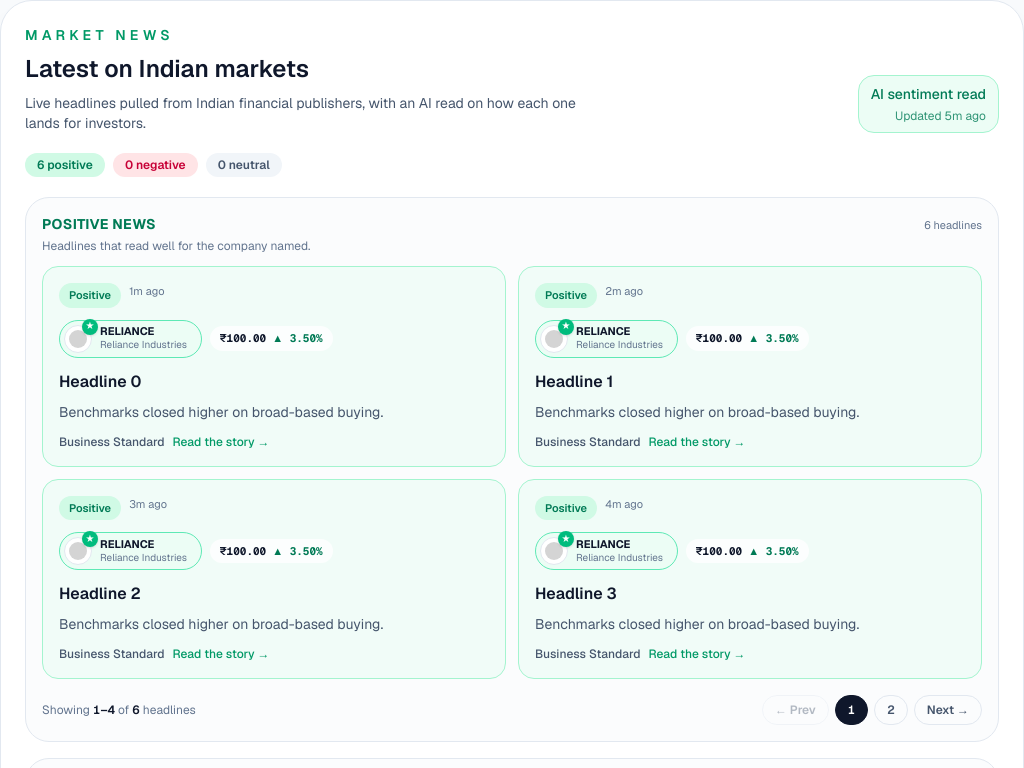
MarketNews as a card grid › pages each half four at a time
This screenshot has width=1024, height=768.
Expected: the heading "Headline 0" is shown, [59,370,141,394]
Expected: the number of list items is 4, [42,266,506,466]; [518,266,982,466]; [42,478,506,679]; [518,478,982,679]
Click the button "Next →" at (948, 710), box [914,695,982,725]
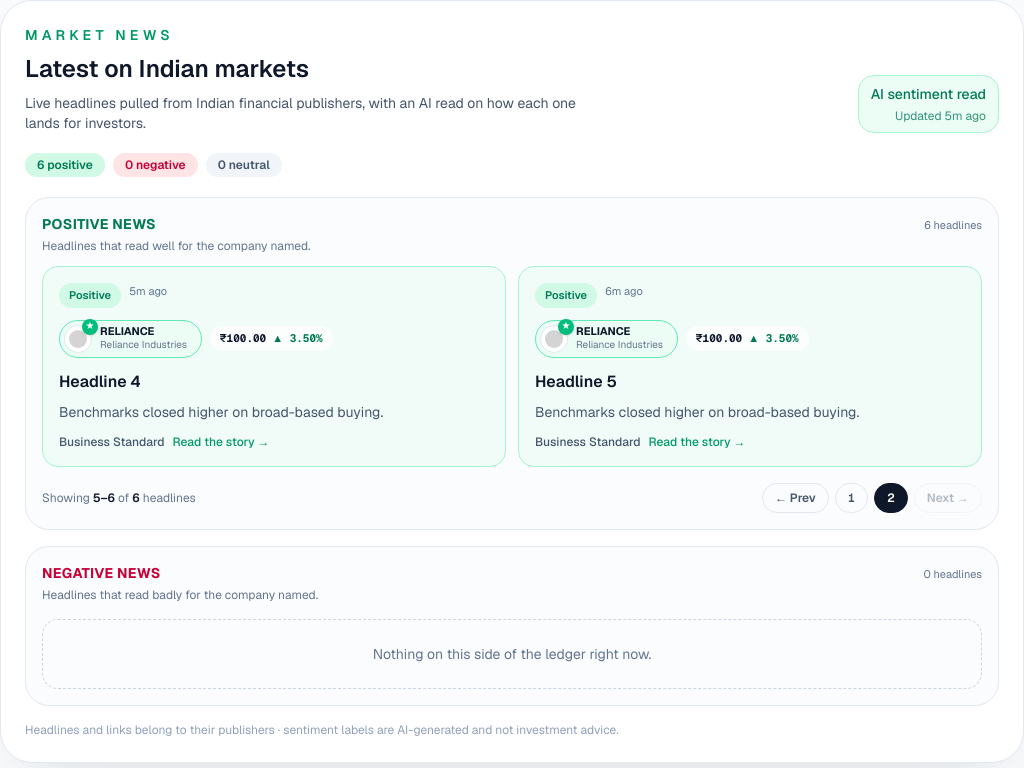
Expected: the heading "Headline 4" is shown, [59,370,141,394]
Expected: the button "Headline 0" is gone
